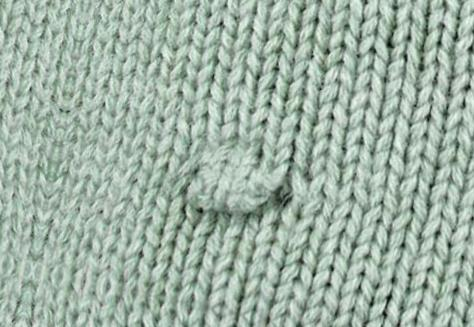knot: (185, 157, 292, 218)
